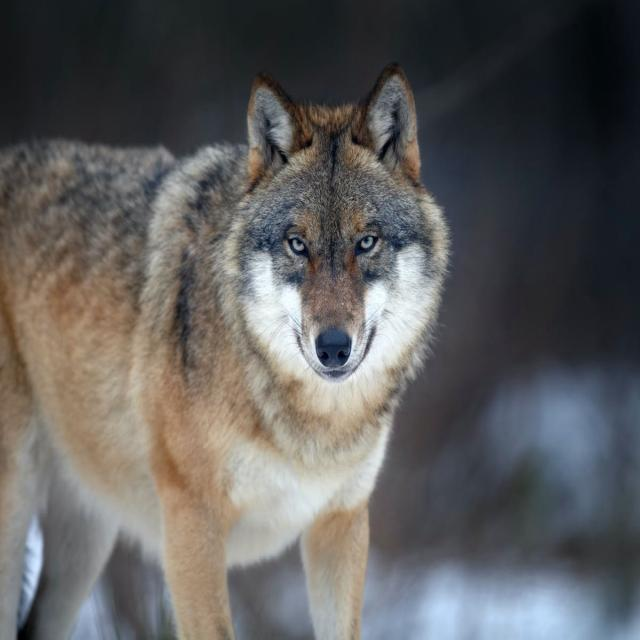wolf: (1, 65, 450, 639)
